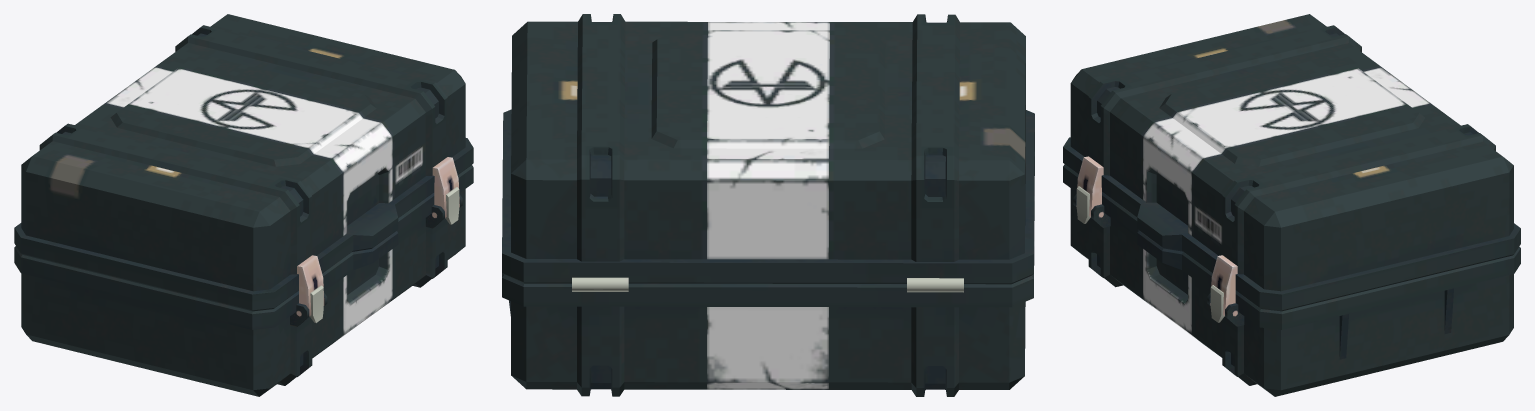
The model's file is AirSupply (6).fbx.
The picture shows the model from 3 angles, left to right: view 1: azimuth 30°, elevation 25°; view 2: azimuth 150°, elevation 25°; view 3: azimuth 270°, elevation 25°; orthographic projection. The views are drawn at different scales.
Parts seen in each view (by area): view 1: Box_upper, Crate, Lock_L_01 1, Lock_R_01 1, Lock_R_02 1, Lock_L_02 1; view 2: Box_upper, Crate; view 3: Box_upper, Crate, Lock_R_01 1, Lock_L_01 1, Lock_L_02 1, Lock_R_02 1.
Boxes of the visible parts, x1,y1,x2,y2 form: Box_upper: [14, 14, 473, 311]; Crate: [14, 165, 473, 396]; Lock_L_01 1: [297, 255, 324, 316]; Lock_R_01 1: [432, 157, 459, 217]; Lock_R_02 1: [445, 187, 459, 224]; Lock_L_02 1: [310, 285, 323, 322]; Box_upper: [502, 14, 1034, 292]; Crate: [502, 152, 1034, 396]; Box_upper: [1063, 14, 1520, 311]; Crate: [1063, 164, 1520, 396]; Lock_R_01 1: [1210, 255, 1237, 315]; Lock_L_01 1: [1076, 156, 1103, 217]; Lock_L_02 1: [1076, 186, 1090, 223]; Lock_R_02 1: [1210, 285, 1224, 322].
Size of the model in its own units: 1.61 by 0.682 by 1.46.
2 materials, 2 textured.
